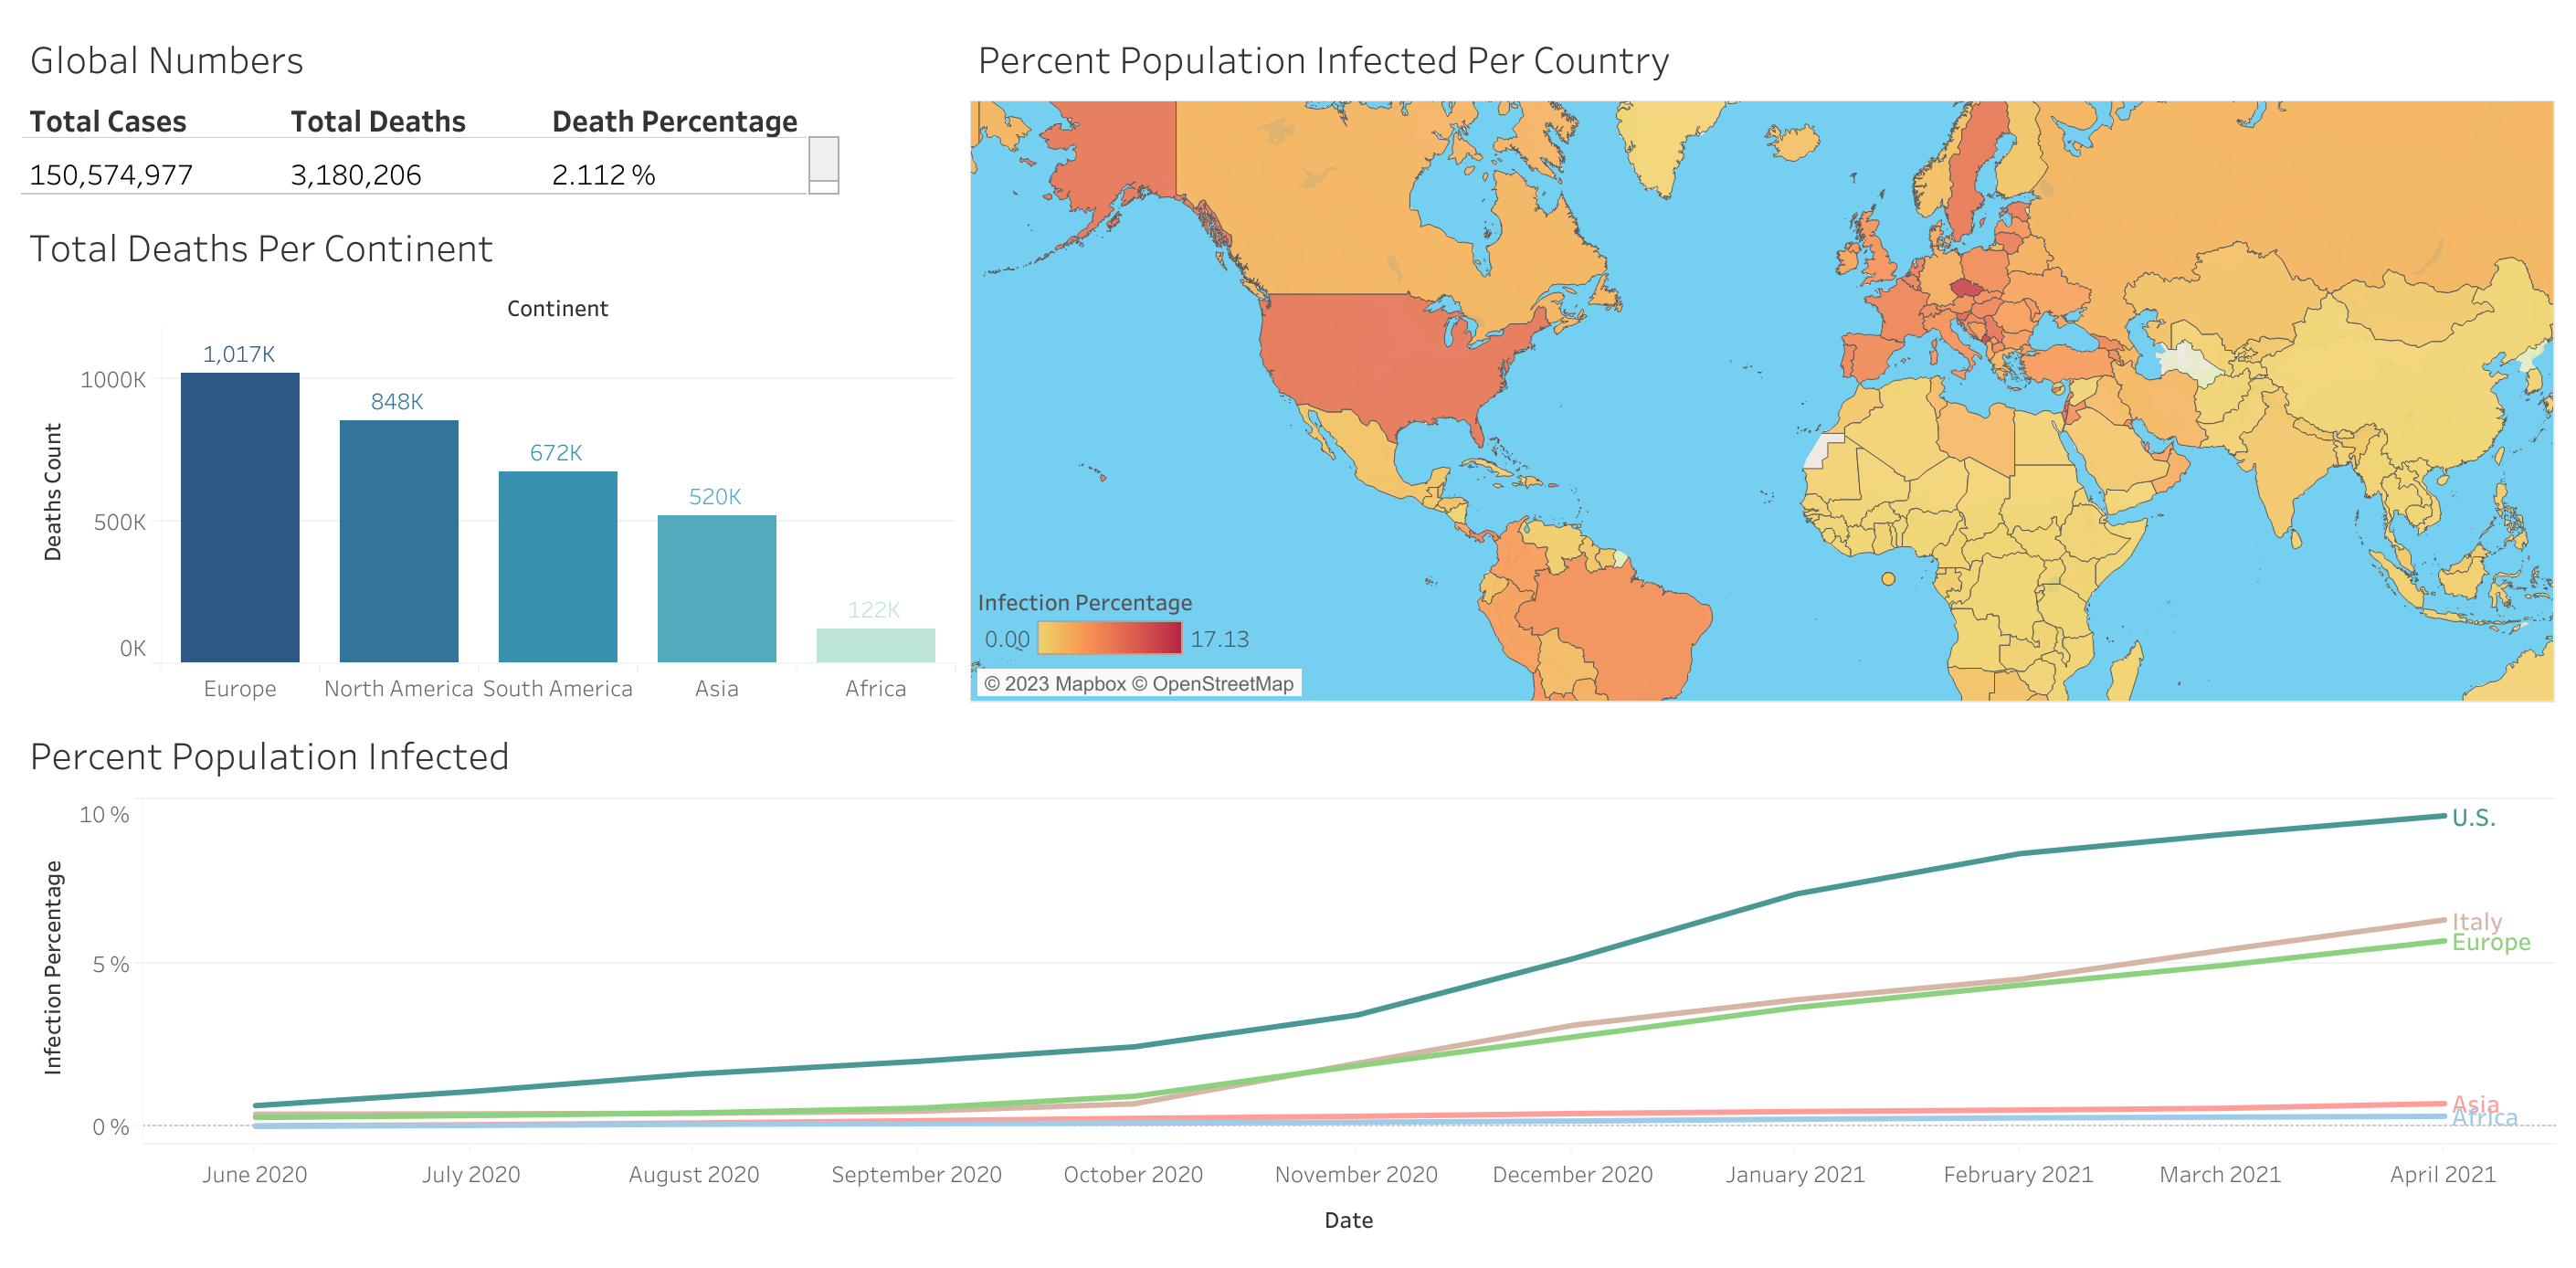

The dashboard page shown, as its layout file describes it:
{"tool":"tableau","page":{"name":"Dashboard 1","canvas":[1000,1000],"units":"permille","ordinal":0},"visuals":[{"type":"worksheet","title":"Sheet 1","mark":"Automatic","box":[6.5,9.9,366.9,148.5]},{"type":"worksheet","title":"Sheet 3","mark":"Automatic","box":[373.4,9.9,620.1,550.7]},{"type":"worksheet","title":"Sheet 2","mark":"Automatic","rows":["TotalDeathsCount"],"cols":["location"],"box":[6.5,158.4,366.9,402.2]},{"type":"legend","title":"Sheet 3","param":"[federated.0ud8jso0hbpzl414yybq715auulj].[avg:InfectionPercentage:qk]","box":[379.1,454.2,109.6,99]},{"type":"worksheet","title":"Sheet 4","mark":"Automatic","rows":["InfectionPercentage"],"cols":["date"],"box":[6.5,560.6,987,429.5]}]}

Visuals, with their boxes on the dashboard's canvas, which has no fixed pixel size, in thousandths of its width and height (x1, y1, x2, y2). These are canvas units, not pixel positions in the 2576x1268 screenshot, which may show the page scaled, cropped or inside an application window:
"Sheet 1" worksheet: BBox(6, 10, 373, 158)
"Sheet 3" worksheet: BBox(373, 10, 994, 561)
"Sheet 2" worksheet: BBox(6, 158, 373, 561)
"Sheet 3" legend: BBox(379, 454, 489, 553)
"Sheet 4" worksheet: BBox(6, 561, 994, 990)
